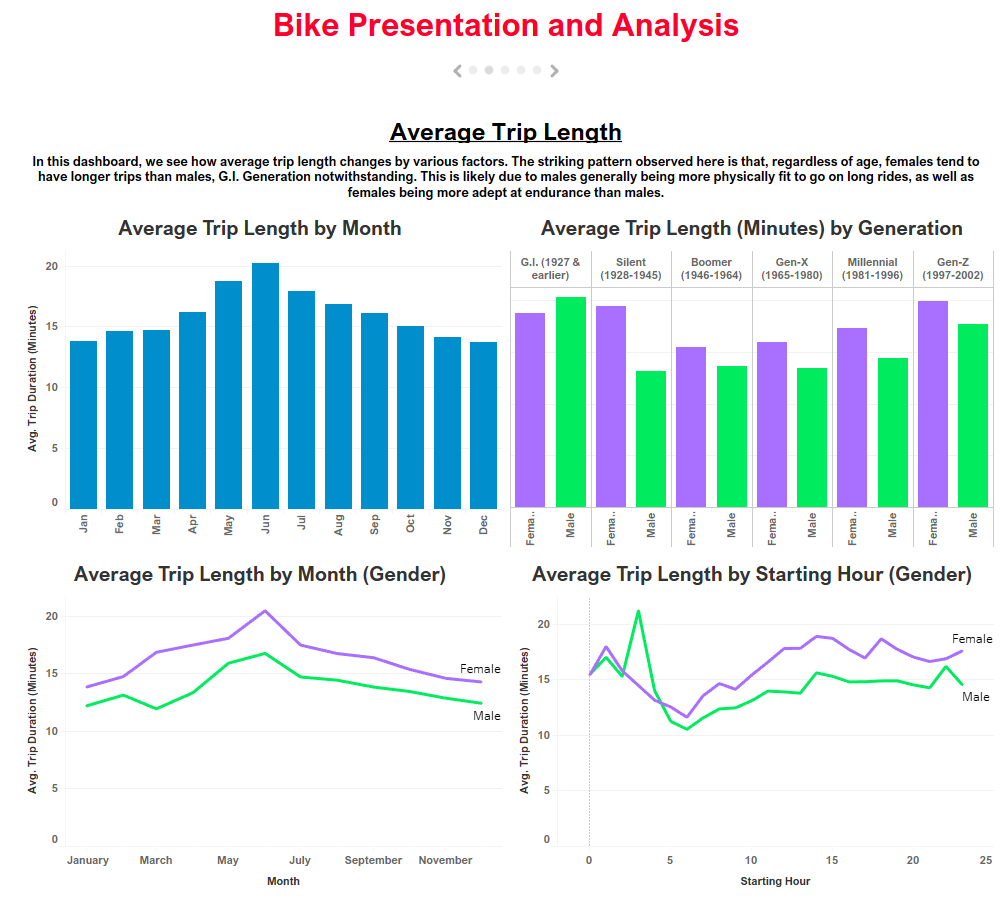

The page's visual inventory and layout, read from the dashboard file:
{"tool":"tableau","page":{"name":"Dashboard 2 - Trip Length","canvas":[1000,800],"ordinal":1},"visuals":[{"type":"worksheet","box":[0,0,1000,800]},{"type":"worksheet","box":[8,8,984,32]},{"type":"worksheet","param":"horz","box":[8,40,984,752]},{"type":"worksheet","param":"horz","box":[8,40,984,752]},{"type":"worksheet","box":[8,40,984,752]},{"type":"worksheet","box":[8,40,984,60.4]},{"type":"worksheet","title":"Average Trip Length by Month","mark":"Automatic","rows":["Trip Duration (Minutes)"],"cols":["Month"],"box":[8,100.4,492,345.8]},{"type":"worksheet","title":"Average Trip Length (Minutes) by Generation","mark":"Automatic","rows":["Trip Duration (Minutes)"],"cols":["Generation","Gender Labels"],"box":[500,100.4,492,345.3]},{"type":"worksheet","title":"Average Trip Length by Starting Hour (Gender)","mark":"Automatic","rows":["Trip Duration (Minutes)"],"cols":["starttime"],"box":[500,445.7,492,346.3]},{"type":"worksheet","title":"Average Trip Length by Month (Gender)","mark":"Automatic","rows":["Trip Duration (Minutes)"],"cols":["starttime"],"box":[8,446.2,492,345.8]}]}

Visuals, with their boxes on the page's 1000x800 design canvas (x1, y1, x2, y2). These are canvas units, not pixel positions in the 1008x901 screenshot, which may show the page scaled, cropped or inside an application window:
worksheet: pyautogui.locateOnScreen(0, 0, 1000, 800)
worksheet: pyautogui.locateOnScreen(8, 8, 992, 40)
worksheet: pyautogui.locateOnScreen(8, 40, 992, 792)
worksheet: pyautogui.locateOnScreen(8, 40, 992, 792)
worksheet: pyautogui.locateOnScreen(8, 40, 992, 792)
worksheet: pyautogui.locateOnScreen(8, 40, 992, 100)
"Average Trip Length by Month" worksheet: pyautogui.locateOnScreen(8, 100, 500, 446)
"Average Trip Length (Minutes) by Generation" worksheet: pyautogui.locateOnScreen(500, 100, 992, 446)
"Average Trip Length by Starting Hour (Gender)" worksheet: pyautogui.locateOnScreen(500, 446, 992, 792)
"Average Trip Length by Month (Gender)" worksheet: pyautogui.locateOnScreen(8, 446, 500, 792)
